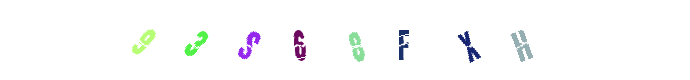3: (156, 0, 236, 80)
6: (259, 0, 339, 80)
8: (292, 0, 372, 80)
9: (104, 0, 184, 80)
F: (305, 0, 385, 80)
H: (429, 0, 509, 80)
S: (209, 0, 289, 80)
X: (399, 0, 479, 80)
